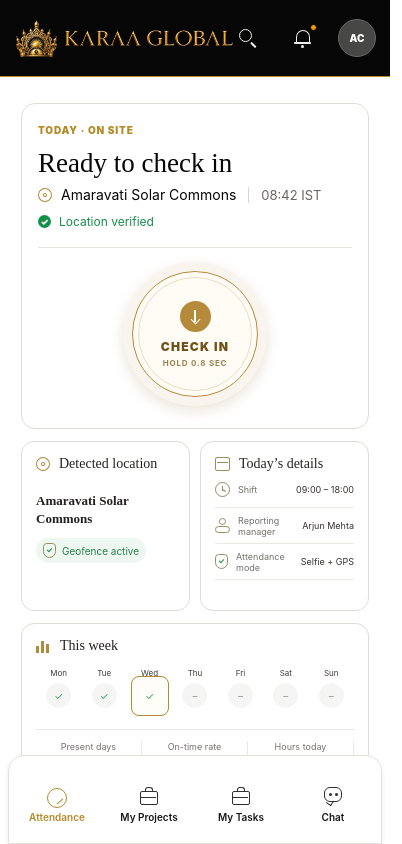
Karaa Global role demo surfaces › gives a selected chat thread a keyboard-safe viewport outside the page scroller
This screenshot has width=402, height=844.
Click the tab "Chat".
click(333, 805)  # box [322, 787, 344, 822]
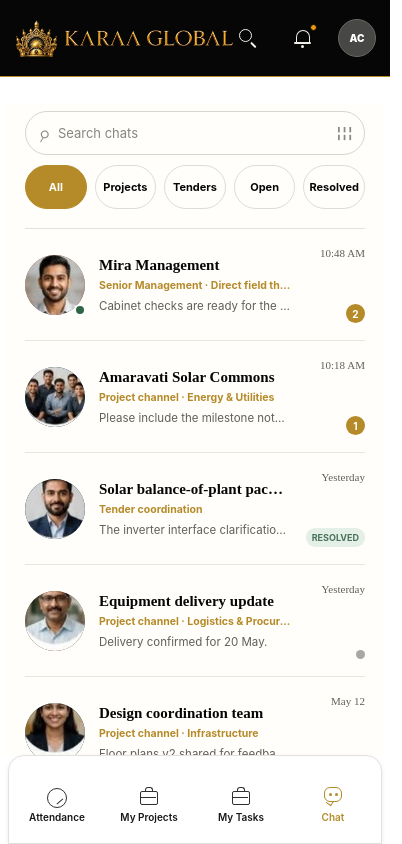
Click the button with aria-label "Open Mira Management conversation".
click(195, 285)  # box [25, 229, 365, 341]
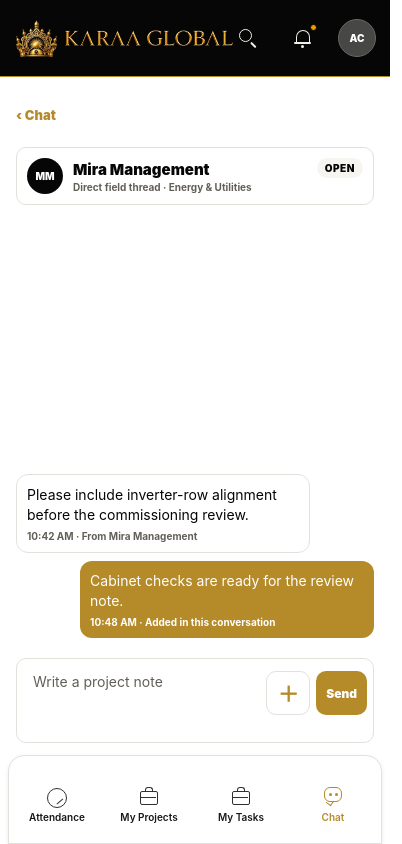
Result: the element with test id "demo-scroll-surface" is gone
Result: the element with test id "demo-chat-keyboard-surface" is shown
Result: the element with test id "chat-composer" is shown at [16, 658, 374, 743]
